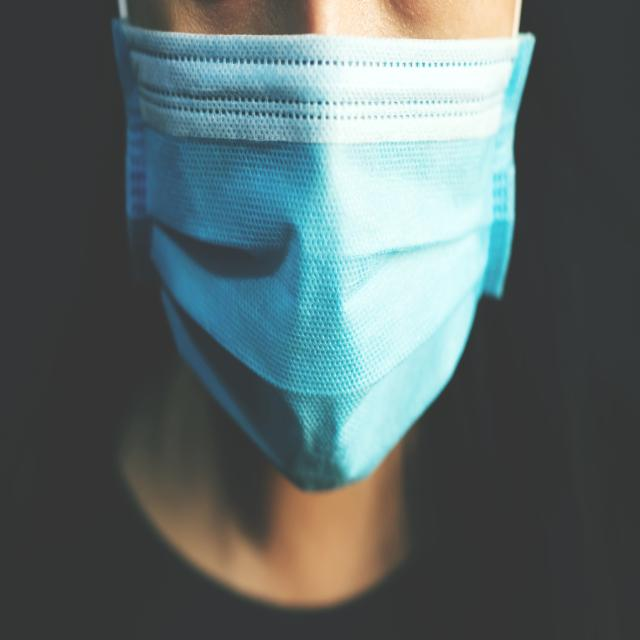1_mascarilla: (110, 15, 536, 493)
